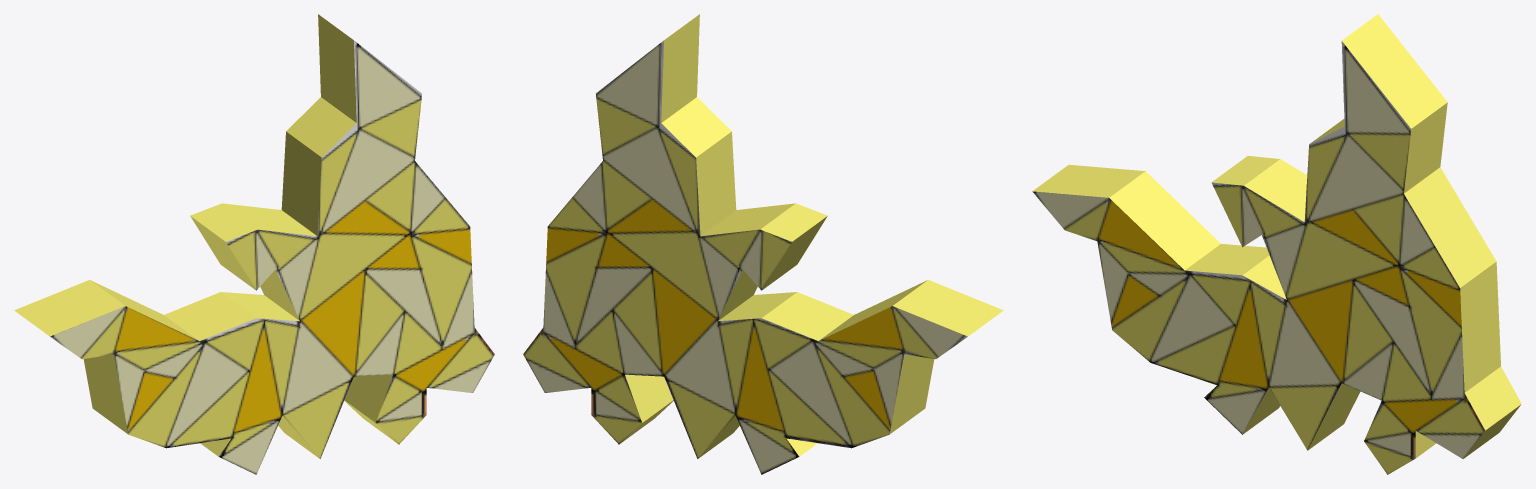
The model's file is top right mosaic.FBX.
3 views of the same model, side by side, from view 1: azimuth 30°, elevation 25°; view 2: azimuth 150°, elevation 25°; view 3: azimuth 330°, elevation 25° (orthographic).
Visible parts, largest first — view 1: Line003; view 2: Line003; view 3: Line003.
Boxes of the visible parts, box(x1,y1,x2,y2) form: Line003: box(14, 14, 494, 474); Line003: box(523, 14, 1003, 474); Line003: box(1032, 14, 1521, 474).
Bounding box in the file's own units: 33.25 × 29.66 × 4.63.
